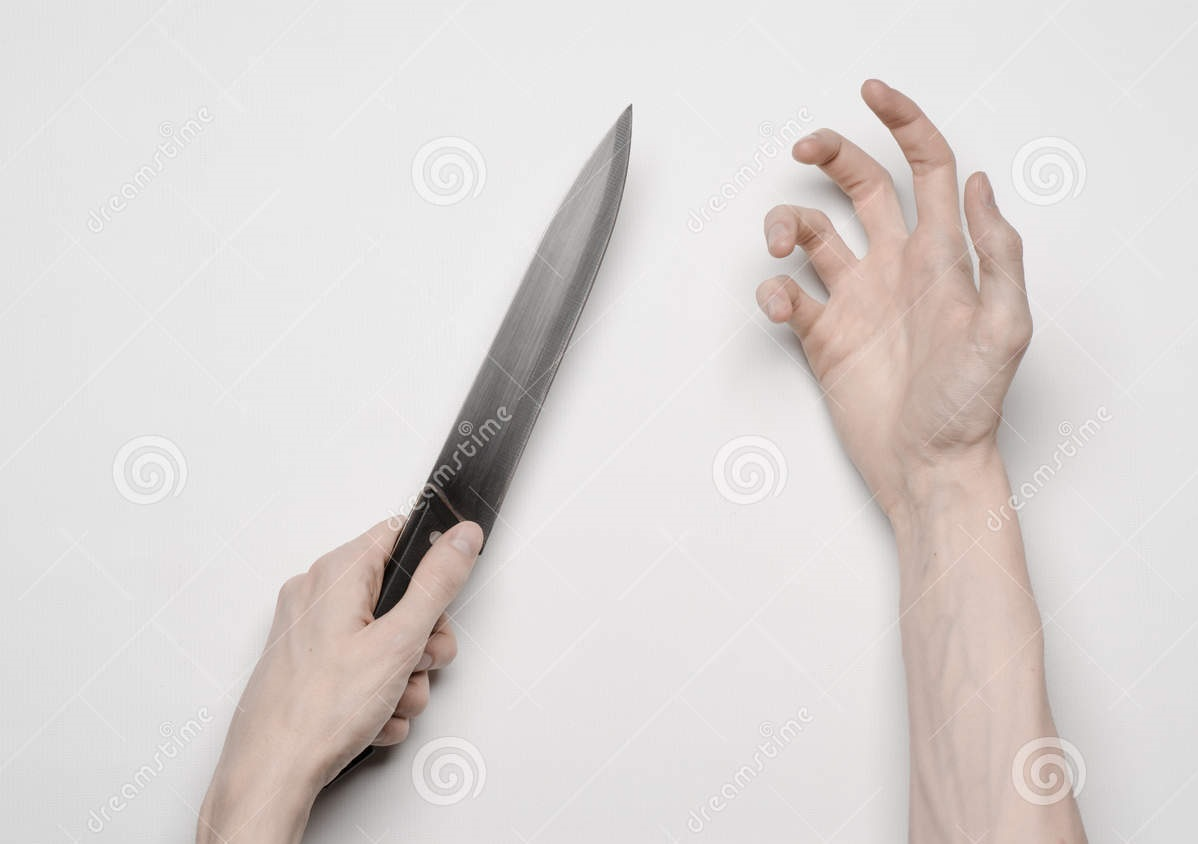knife: (343, 88, 653, 662)
